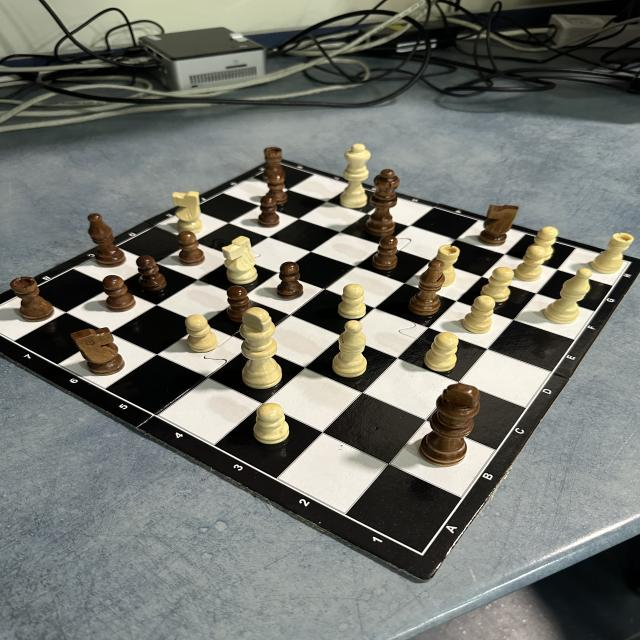Black-Bishop: (86, 214, 126, 268), (408, 260, 446, 316)
Black-King: (420, 384, 481, 466)
Black-Knight: (72, 327, 126, 375), (478, 205, 520, 244)
Black-Pawn: (137, 255, 167, 294), (104, 274, 135, 311), (275, 260, 302, 298), (178, 232, 205, 266), (372, 236, 398, 271), (227, 286, 250, 322), (267, 177, 288, 206), (260, 195, 279, 227)
Black-Queen: (366, 169, 400, 235)
Black-Rook: (11, 275, 54, 322), (263, 147, 285, 179)
White-Bishop: (544, 268, 593, 324), (332, 322, 368, 378)
White-King: (242, 308, 282, 389)
White-Knight: (223, 236, 257, 284), (174, 190, 201, 232)
White-Pawn: (254, 403, 288, 444), (185, 314, 217, 354), (426, 332, 458, 372), (464, 294, 494, 334), (517, 244, 545, 282), (482, 268, 513, 302), (339, 283, 366, 319), (532, 227, 557, 260)
White-Queen: (340, 143, 371, 209)
White-Rook: (591, 232, 634, 274), (433, 244, 459, 286)
